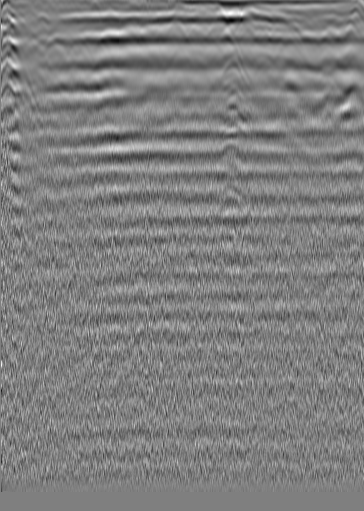가스: (214, 136, 242, 163)
상수: (284, 19, 304, 39)
오수: (23, 28, 43, 48)
우수: (164, 22, 184, 42)
